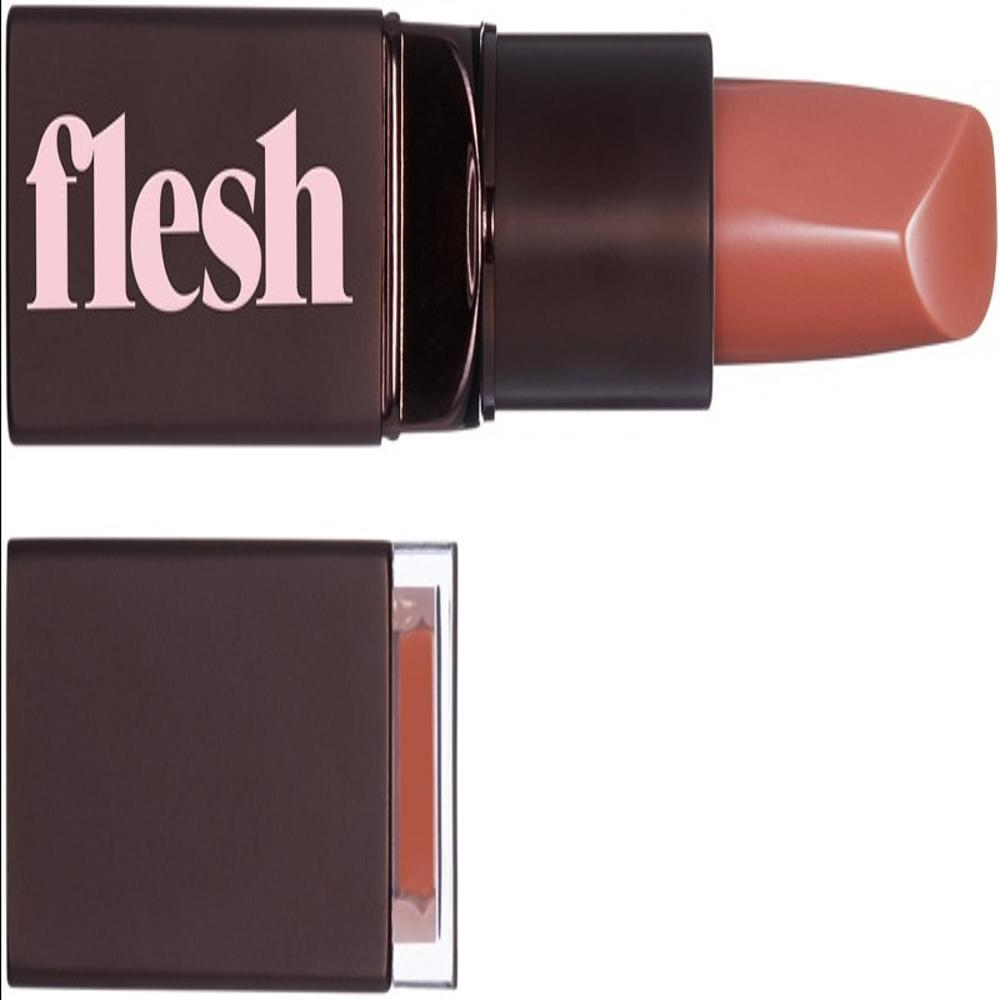lipstick: (8, 4, 1000, 448)
